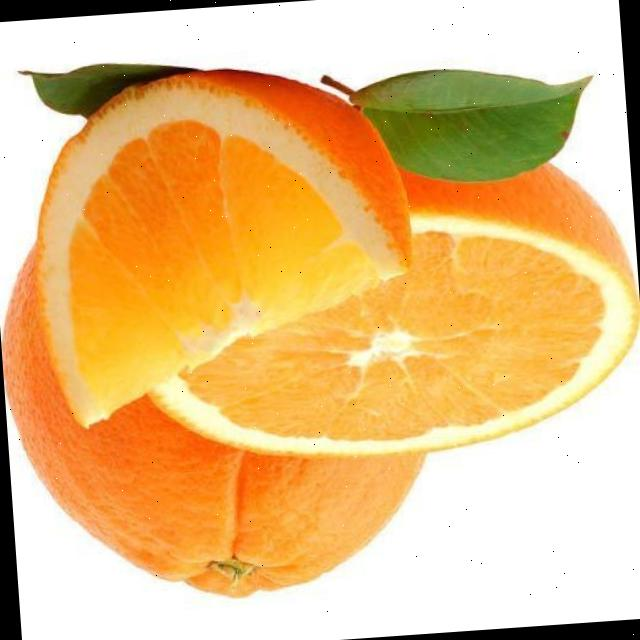Jeruk: (0, 214, 435, 615), (131, 148, 640, 474), (20, 55, 425, 433)
